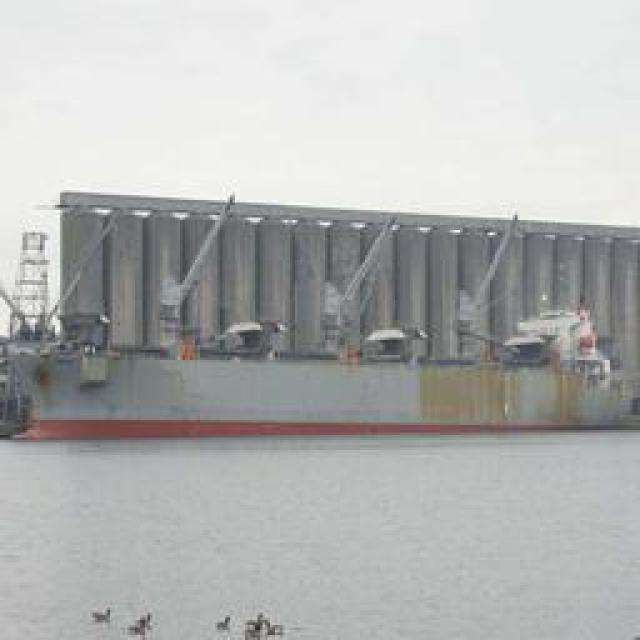Ship: (1, 265, 640, 449)
